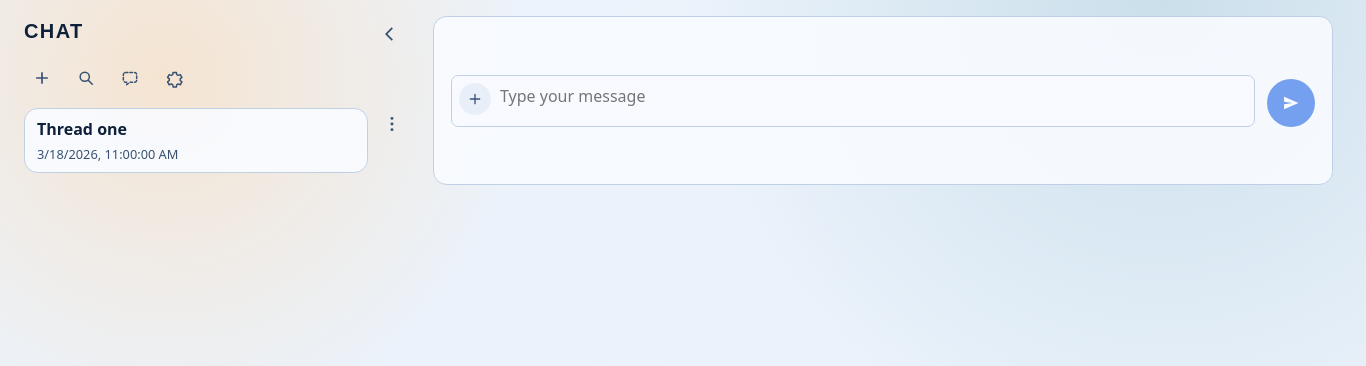
Scenario: ChatPlaygroundPage › turns the send control into a stop action during streaming and aborts when clicked
Type "Stop mid-stream" into the text box labelled "message" at [853, 101], box [451, 75, 1255, 127]
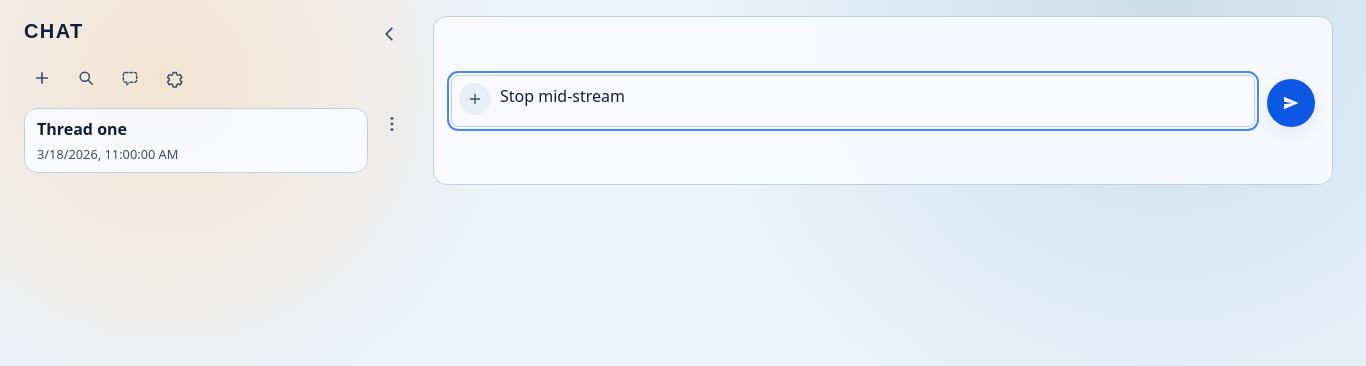
Click the button named "Send" at [1291, 103], box [1267, 79, 1315, 127]
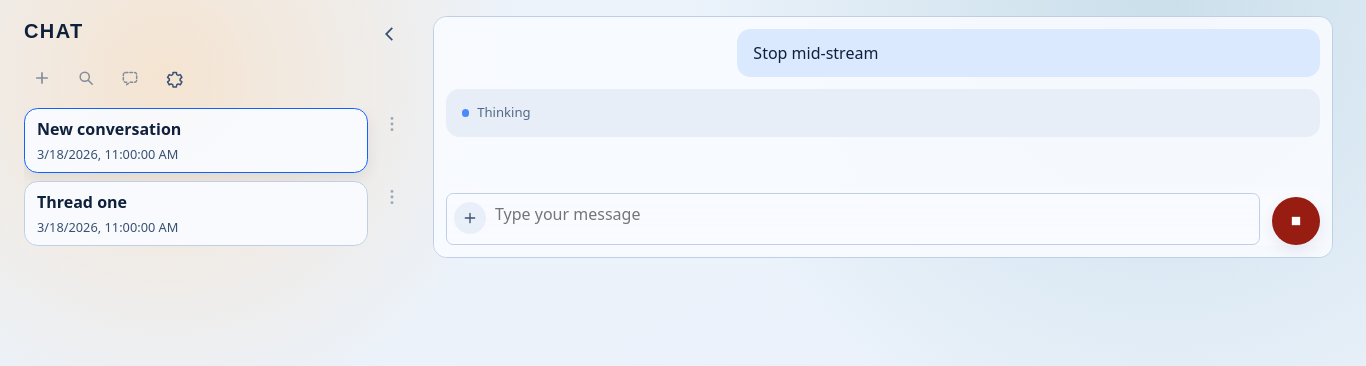
Expected: the button named "Stop response" is enabled
Expected: the text box labelled "message" is disabled, [446, 193, 1260, 245]
Click the button named "Stop response" at [1296, 221], box [1272, 197, 1320, 245]
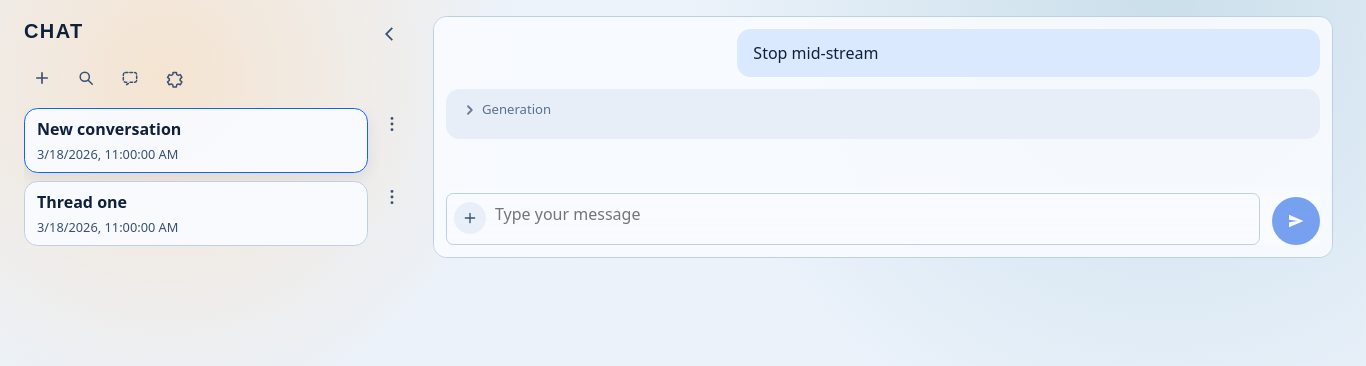
Expected: the button "Stop response" is not shown
Expected: the button named "Send" is disabled, [1272, 197, 1320, 245]
